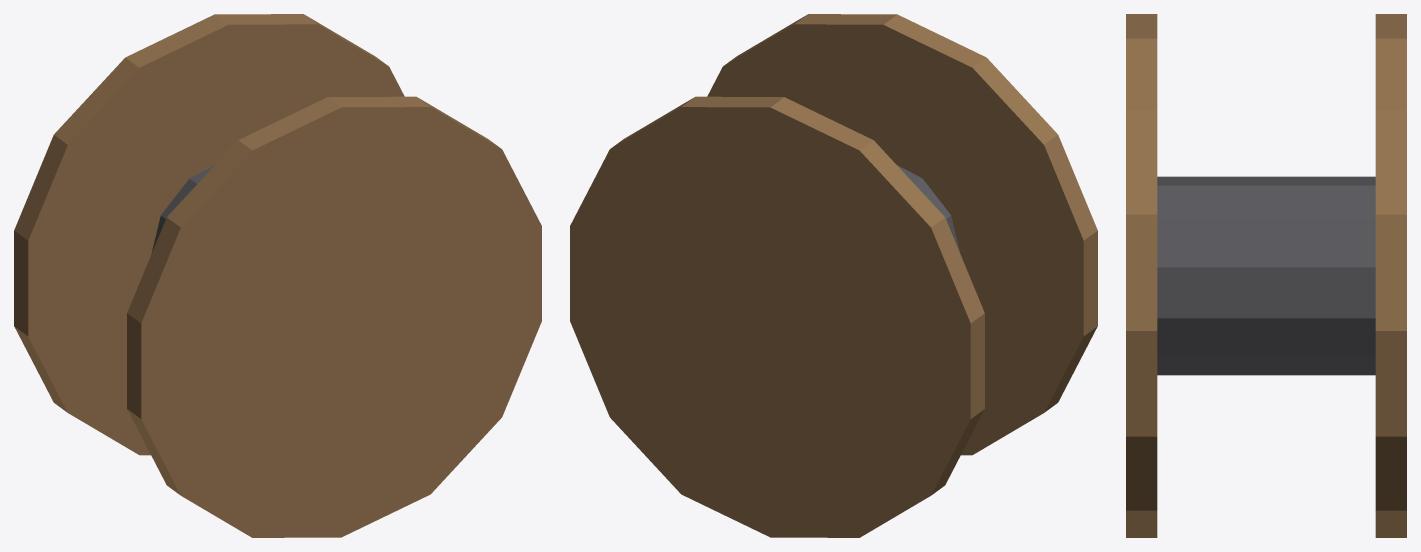
File: cable_reel.glb
The picture shows the model from 3 angles, left to right: view 1: azimuth 30°, elevation 25°; view 2: azimuth 150°, elevation 25°; view 3: azimuth 270°, elevation 25°; orthographic projection. The views are drawn at different scales.
Visible parts, largest first — view 1: cable_reel; view 2: cable_reel; view 3: cable_reel.
Part boxes in pixels (x1,y1,x2,y2): cable_reel: (14,14,541,537); cable_reel: (570,14,1097,537); cable_reel: (1126,14,1406,537).
Bounding box in the file's own units: 0.8189 × 0.84 × 0.45.
